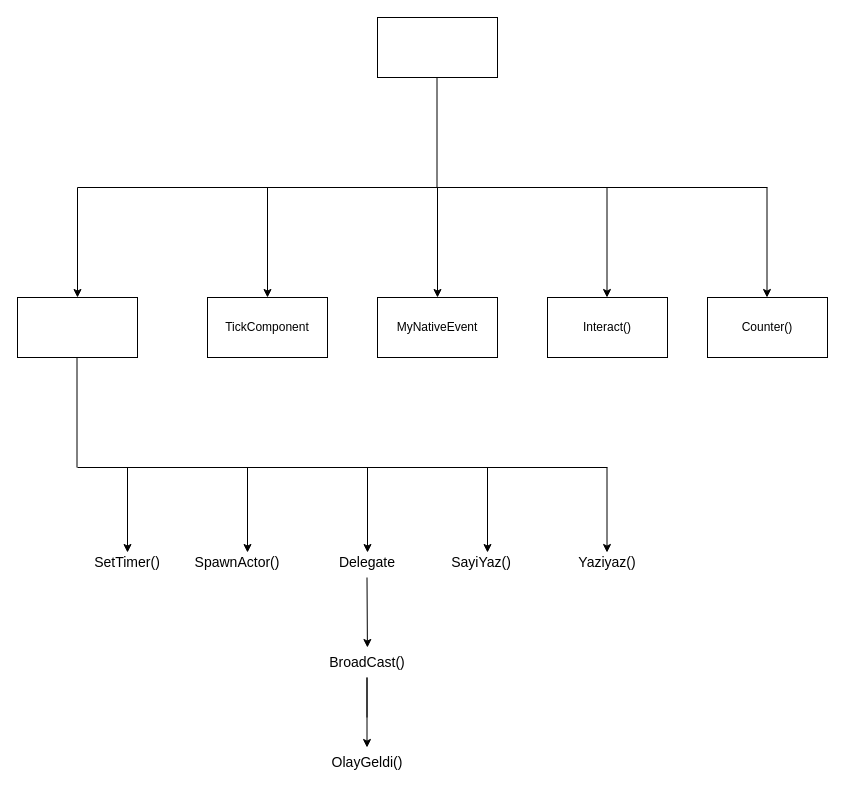
This 845x795 diagram has some shape labels left out. The shapes that lost their labels are listed below. From the top down, each one's centre as x and y in pixels, then its label:
(437,47): UMyActorComponent
(77,327): BeginPlay
